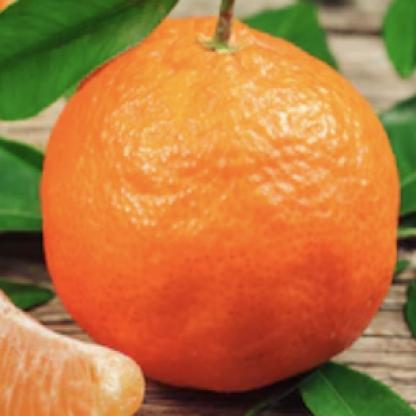fresh: (40, 12, 400, 393)
